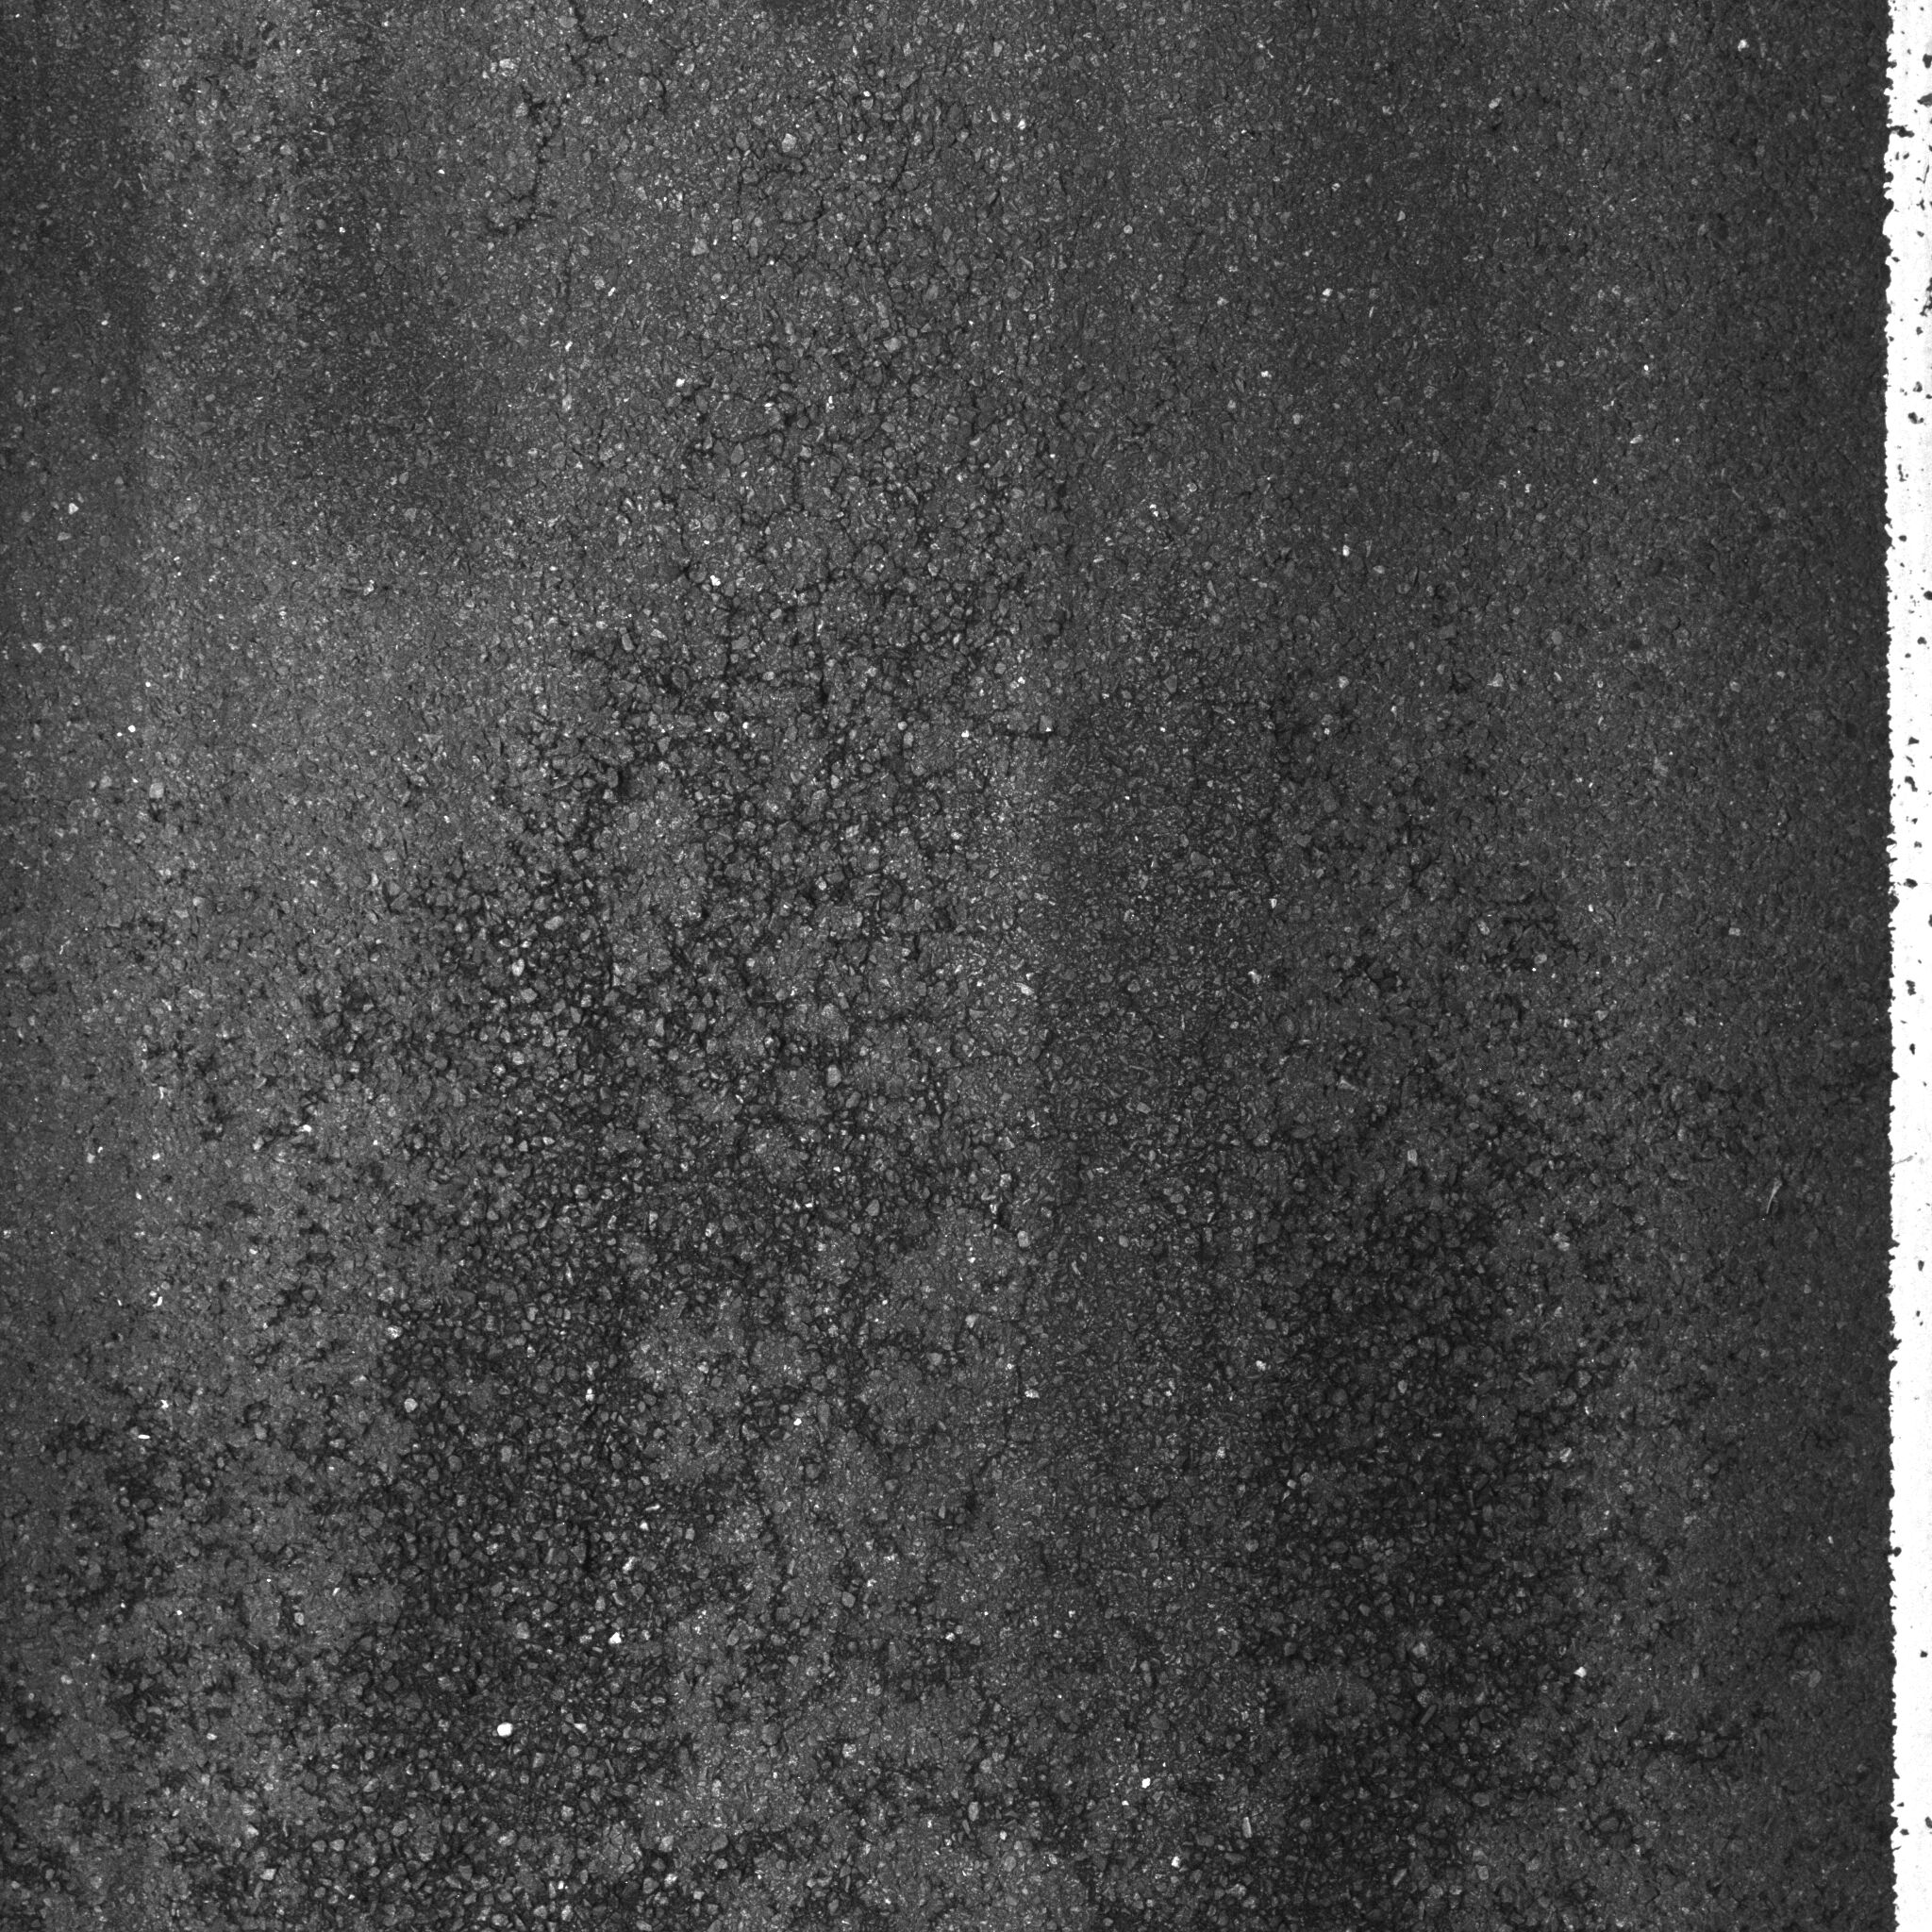alligator: (2, 368, 1750, 1932)
